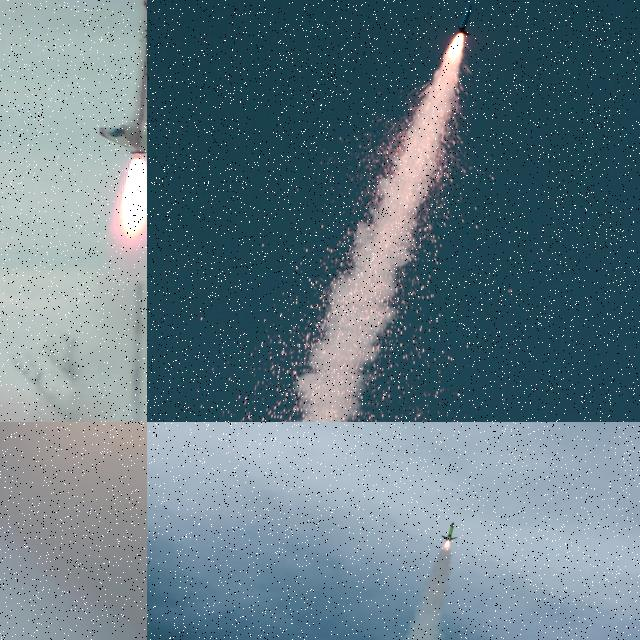Rocket: (97, 0, 147, 154), (456, 4, 472, 35), (441, 522, 458, 542)
